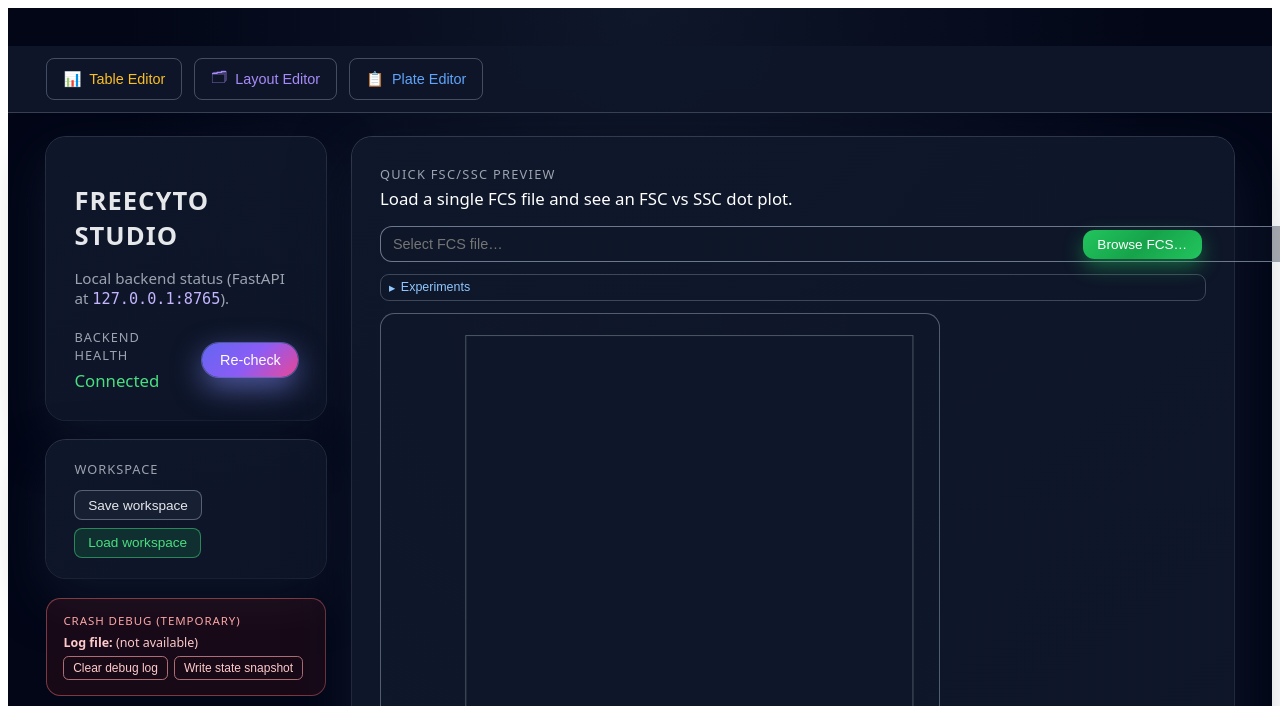
Rectangle gate creation — click sequence › finishes the drag when the mouse is released outside the plot
Expected: the text "Connected" is shown, [74,369,159,392]
Click the button "Browse FCS…".
click(1142, 244)  # box [1083,230,1202,259]
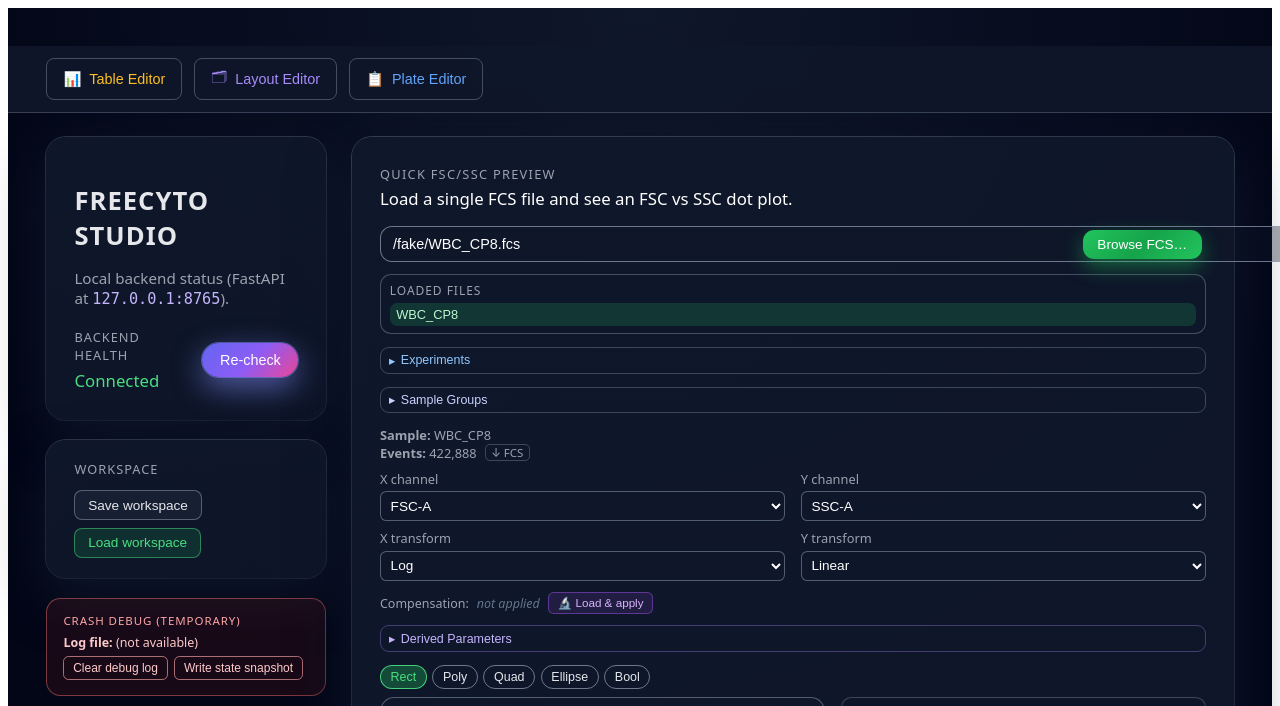
Now the element with test id "file-event-count" is shown, box [380,444,530,462]
Click the button "Poly".
click(455, 677)  # box [432,665,478,689]
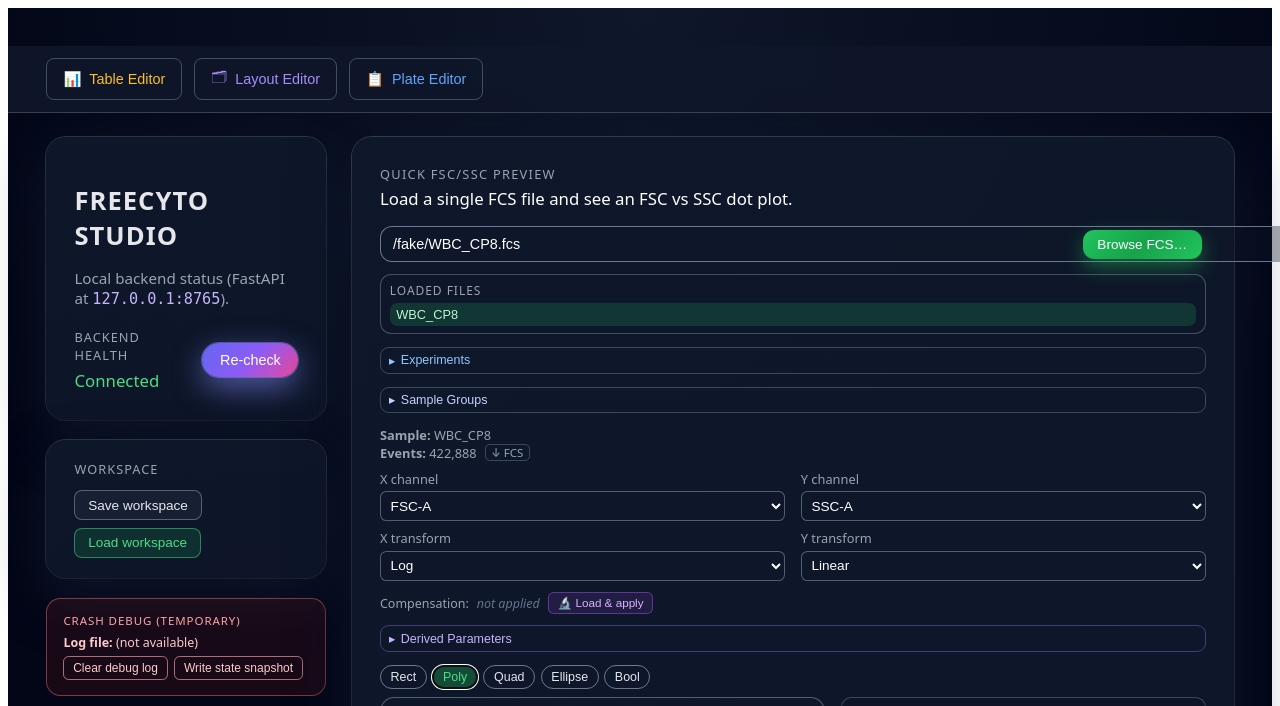
Click the button "Rect".
click(403, 677)  # box [380,665,427,689]
(page scrolled)
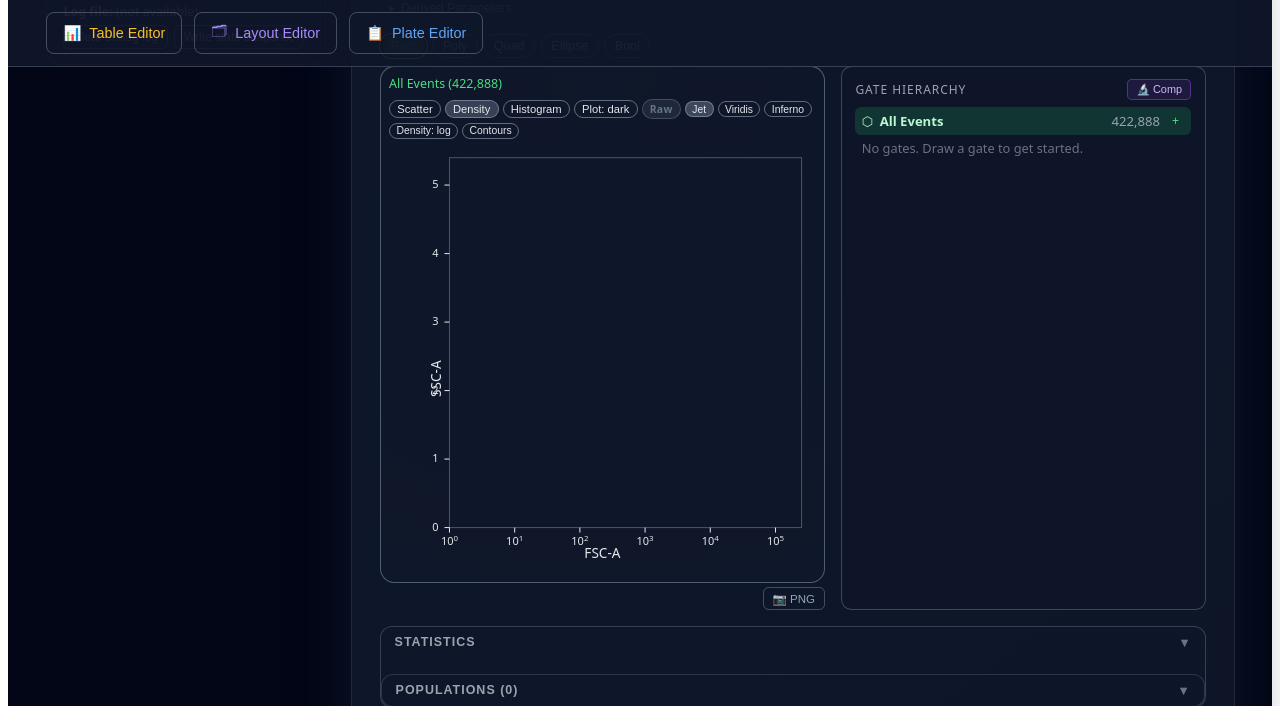
Now the element with test id "gate-draw-overlay" is shown
Press the mouse on the element with test id "gate-draw-overlay" at {"x": 602, "y": 360}, box [389,147,816,574]
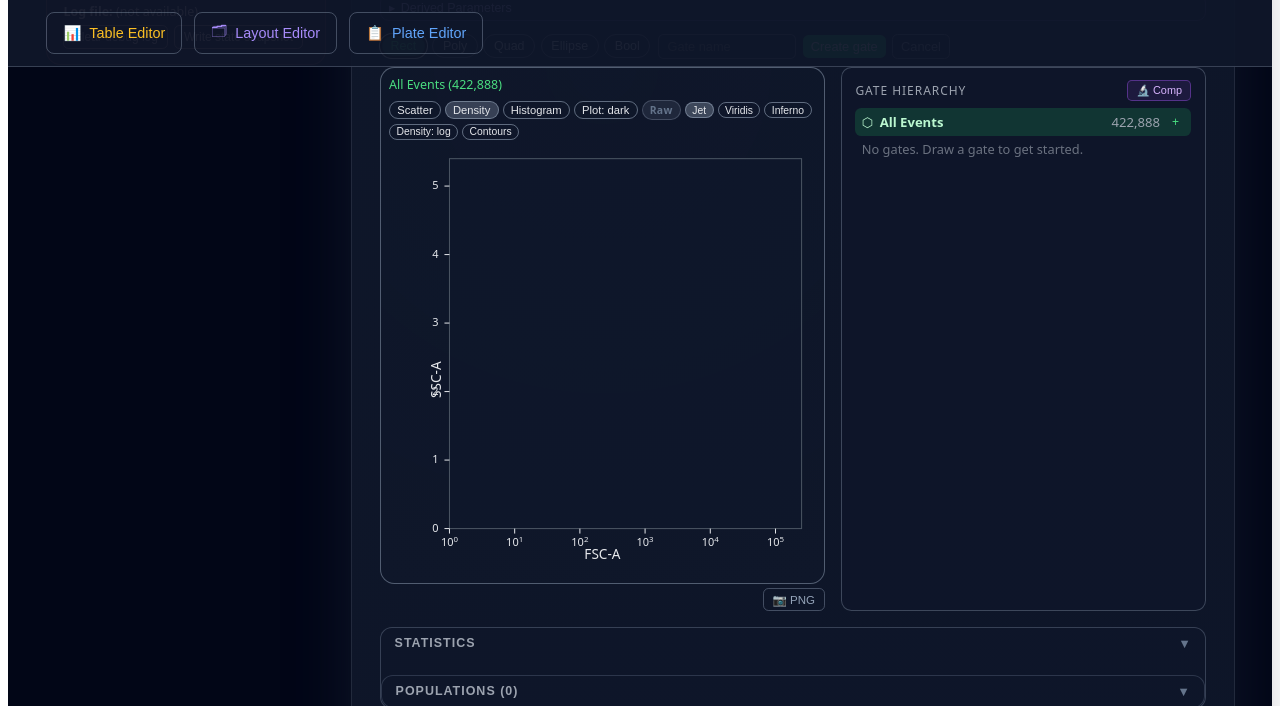
Now the element with test id "gate-draw-overlay" is gone
